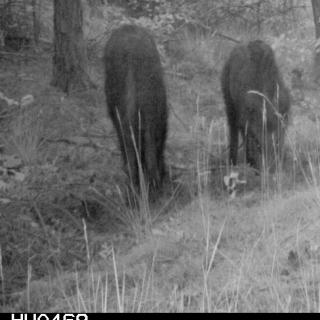Pig: (197, 37, 316, 184), (89, 22, 180, 191)
